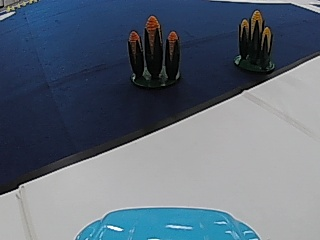corn: (126, 14, 183, 88), (234, 7, 277, 73)
